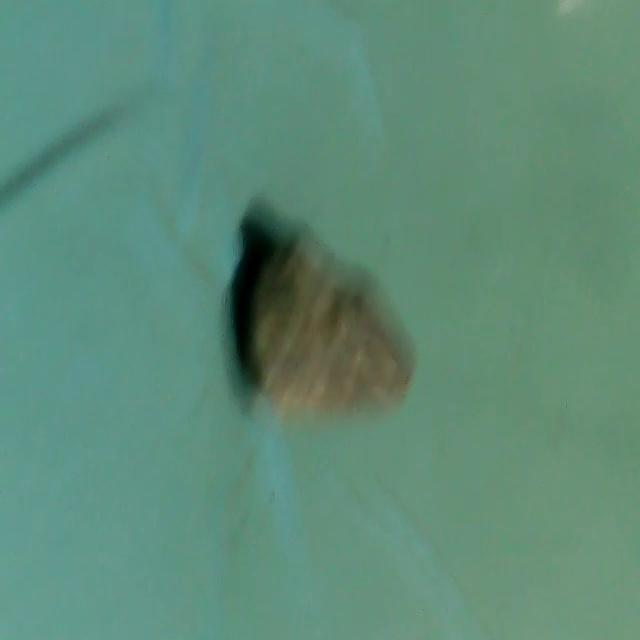rock: (228, 216, 420, 420)
